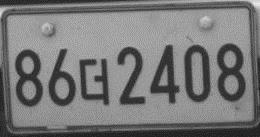0: (183, 43, 213, 102)
2: (115, 45, 147, 106)
4: (147, 42, 181, 104)
6: (47, 47, 77, 106)
8: (214, 42, 247, 102), (13, 48, 44, 107)
더: (77, 55, 112, 106)
